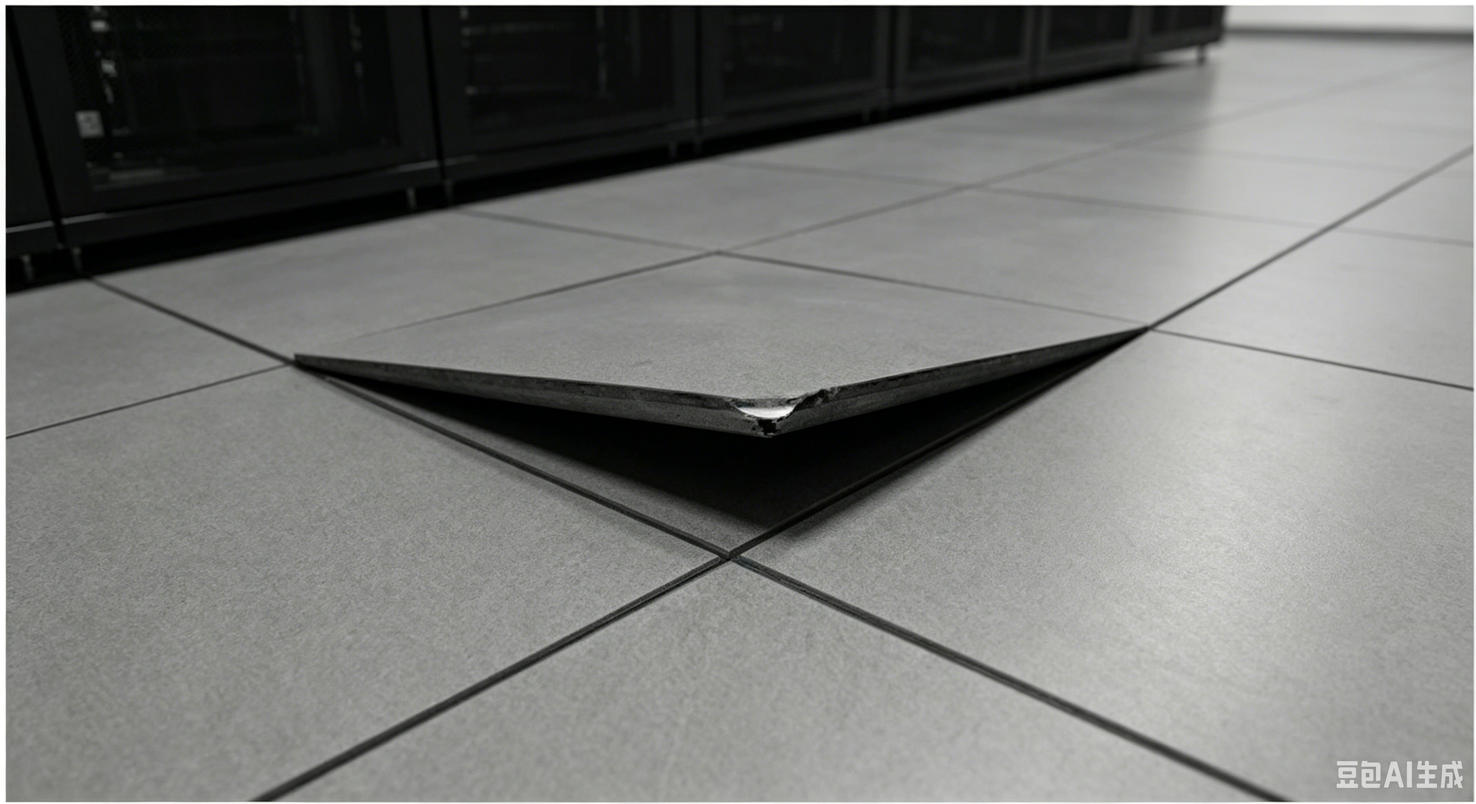floor_defect: (293, 319, 1169, 475)
